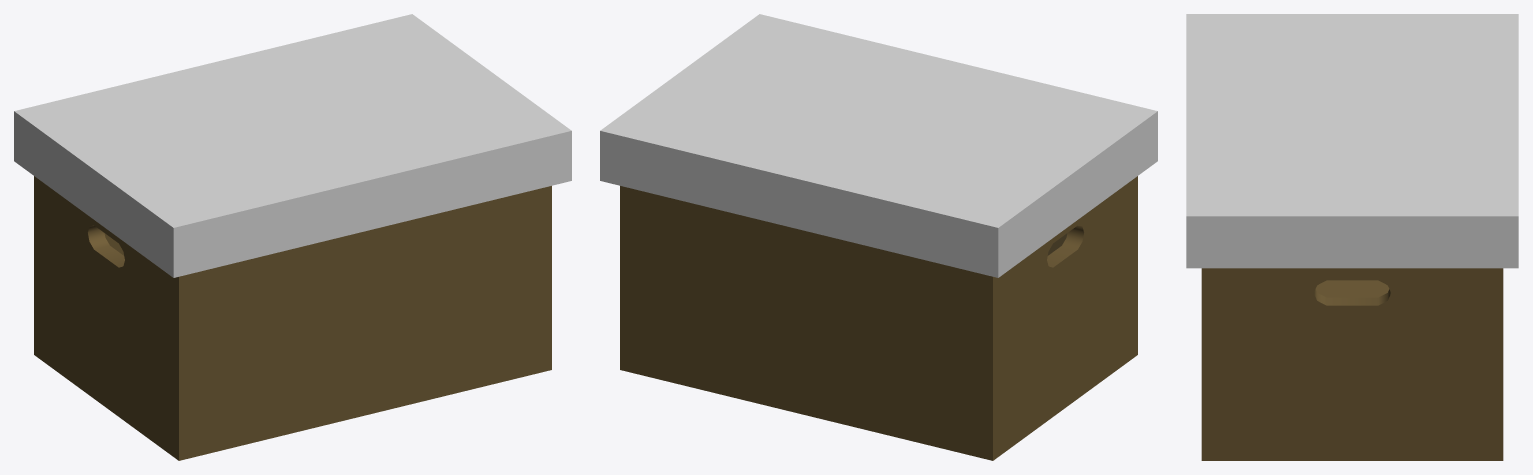
File: OfficeBox.fbx
3 views of the same model, side by side, from view 1: azimuth 30°, elevation 25°; view 2: azimuth 150°, elevation 25°; view 3: azimuth 270°, elevation 25° (orthographic). The views are drawn at different scales.
Visible parts, largest first — view 1: OfficeBox, OfficeHood; view 2: OfficeBox, OfficeHood; view 3: OfficeHood, OfficeBox.
Part boxes in pixels (bbox=[...]): OfficeBox: bbox=[34, 176, 551, 460]; OfficeHood: bbox=[14, 14, 571, 277]; OfficeBox: bbox=[620, 176, 1137, 460]; OfficeHood: bbox=[600, 14, 1157, 277]; OfficeHood: bbox=[1186, 14, 1518, 268]; OfficeBox: bbox=[1201, 268, 1503, 460].
Bounding box in the file's own units: 1.59 × 0.9182 × 1.1.
